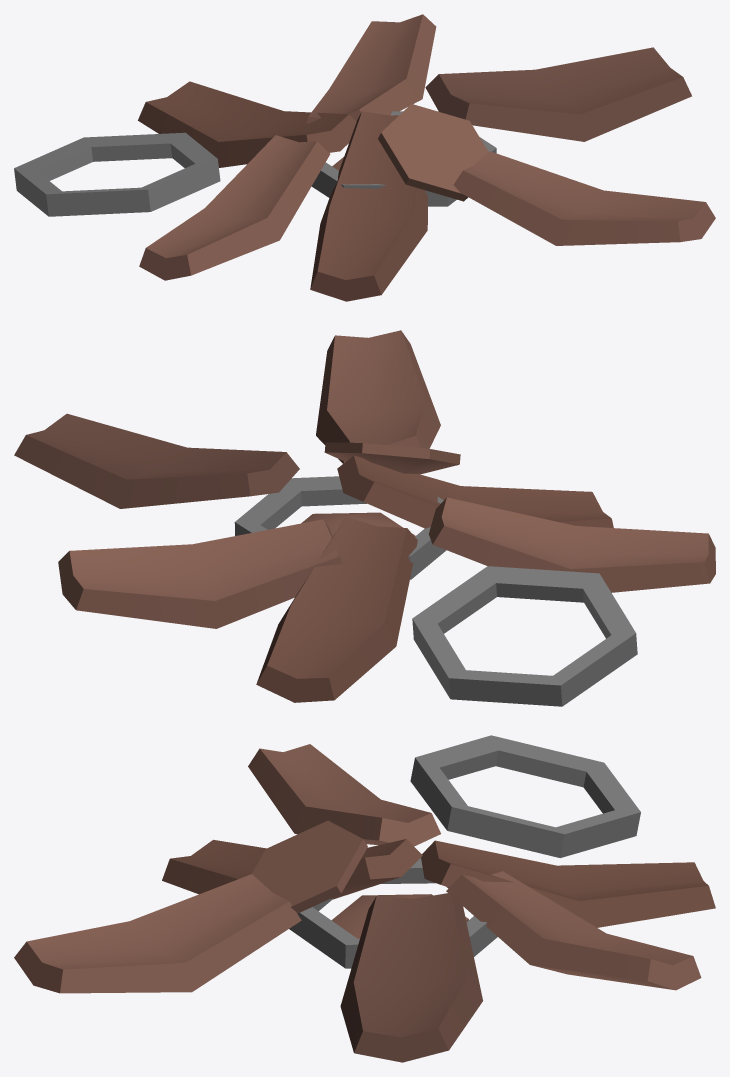
The model's file is Destroyable barrel.fbx.
3 renders of one model, top to bottom at view 1: azimuth 30°, elevation 25°; view 2: azimuth 150°, elevation 25°; view 3: azimuth 270°, elevation 25°, orthographic. The views are drawn at different scales.
Parts seen in each view (by area): view 1: polySurface3267, polySurface3273, polySurface3268, polySurface3272, polySurface3265, polySurface3271, polySurface3270, polySurface3266, polySurface3274; view 2: polySurface3270, polySurface3271, polySurface3267, polySurface3272, polySurface3265, polySurface3268, polySurface3273, polySurface3274, polySurface3266, pasted__polySurface3266; view 3: polySurface3268, polySurface3267, polySurface3265, polySurface3270, polySurface3271, polySurface3272, polySurface3266, polySurface3273, polySurface3274, pasted__polySurface3266.
Part boxes in pixels (<box>): polySurface3267: <box>425,47,691,141</box>; polySurface3273: <box>310,111,427,301</box>; polySurface3268: <box>453,151,715,245</box>; polySurface3272: <box>139,135,330,280</box>; polySurface3265: <box>14,132,220,216</box>; polySurface3271: <box>138,81,356,167</box>; polySurface3270: <box>306,14,436,123</box>; polySurface3266: <box>378,104,488,201</box>; polySurface3274: <box>311,111,496,206</box>; polySurface3270: <box>58,519,342,628</box>; polySurface3271: <box>256,517,417,702</box>; polySurface3267: <box>14,413,299,508</box>; polySurface3272: <box>429,497,715,592</box>; polySurface3265: <box>412,566,637,706</box>; polySurface3268: <box>316,330,440,463</box>; polySurface3273: <box>337,455,613,528</box>; polySurface3274: <box>234,476,446,579</box>; polySurface3266: <box>324,442,460,474</box>; pasted__polySurface3266: <box>301,512,415,536</box>; polySurface3268: <box>14,874,301,993</box>; polySurface3267: <box>340,892,482,1062</box>; polySurface3265: <box>410,735,640,857</box>; polySurface3270: <box>446,871,701,990</box>; polySurface3271: <box>421,840,715,927</box>; polySurface3272: <box>248,744,440,846</box>; polySurface3266: <box>252,820,367,913</box>; polySurface3273: <box>162,839,422,899</box>; polySurface3274: <box>289,858,497,968</box>; pasted__polySurface3266: <box>331,894,468,938</box>.
Bounding box in the file's own units: 7.26 × 1.24 × 6.7.
